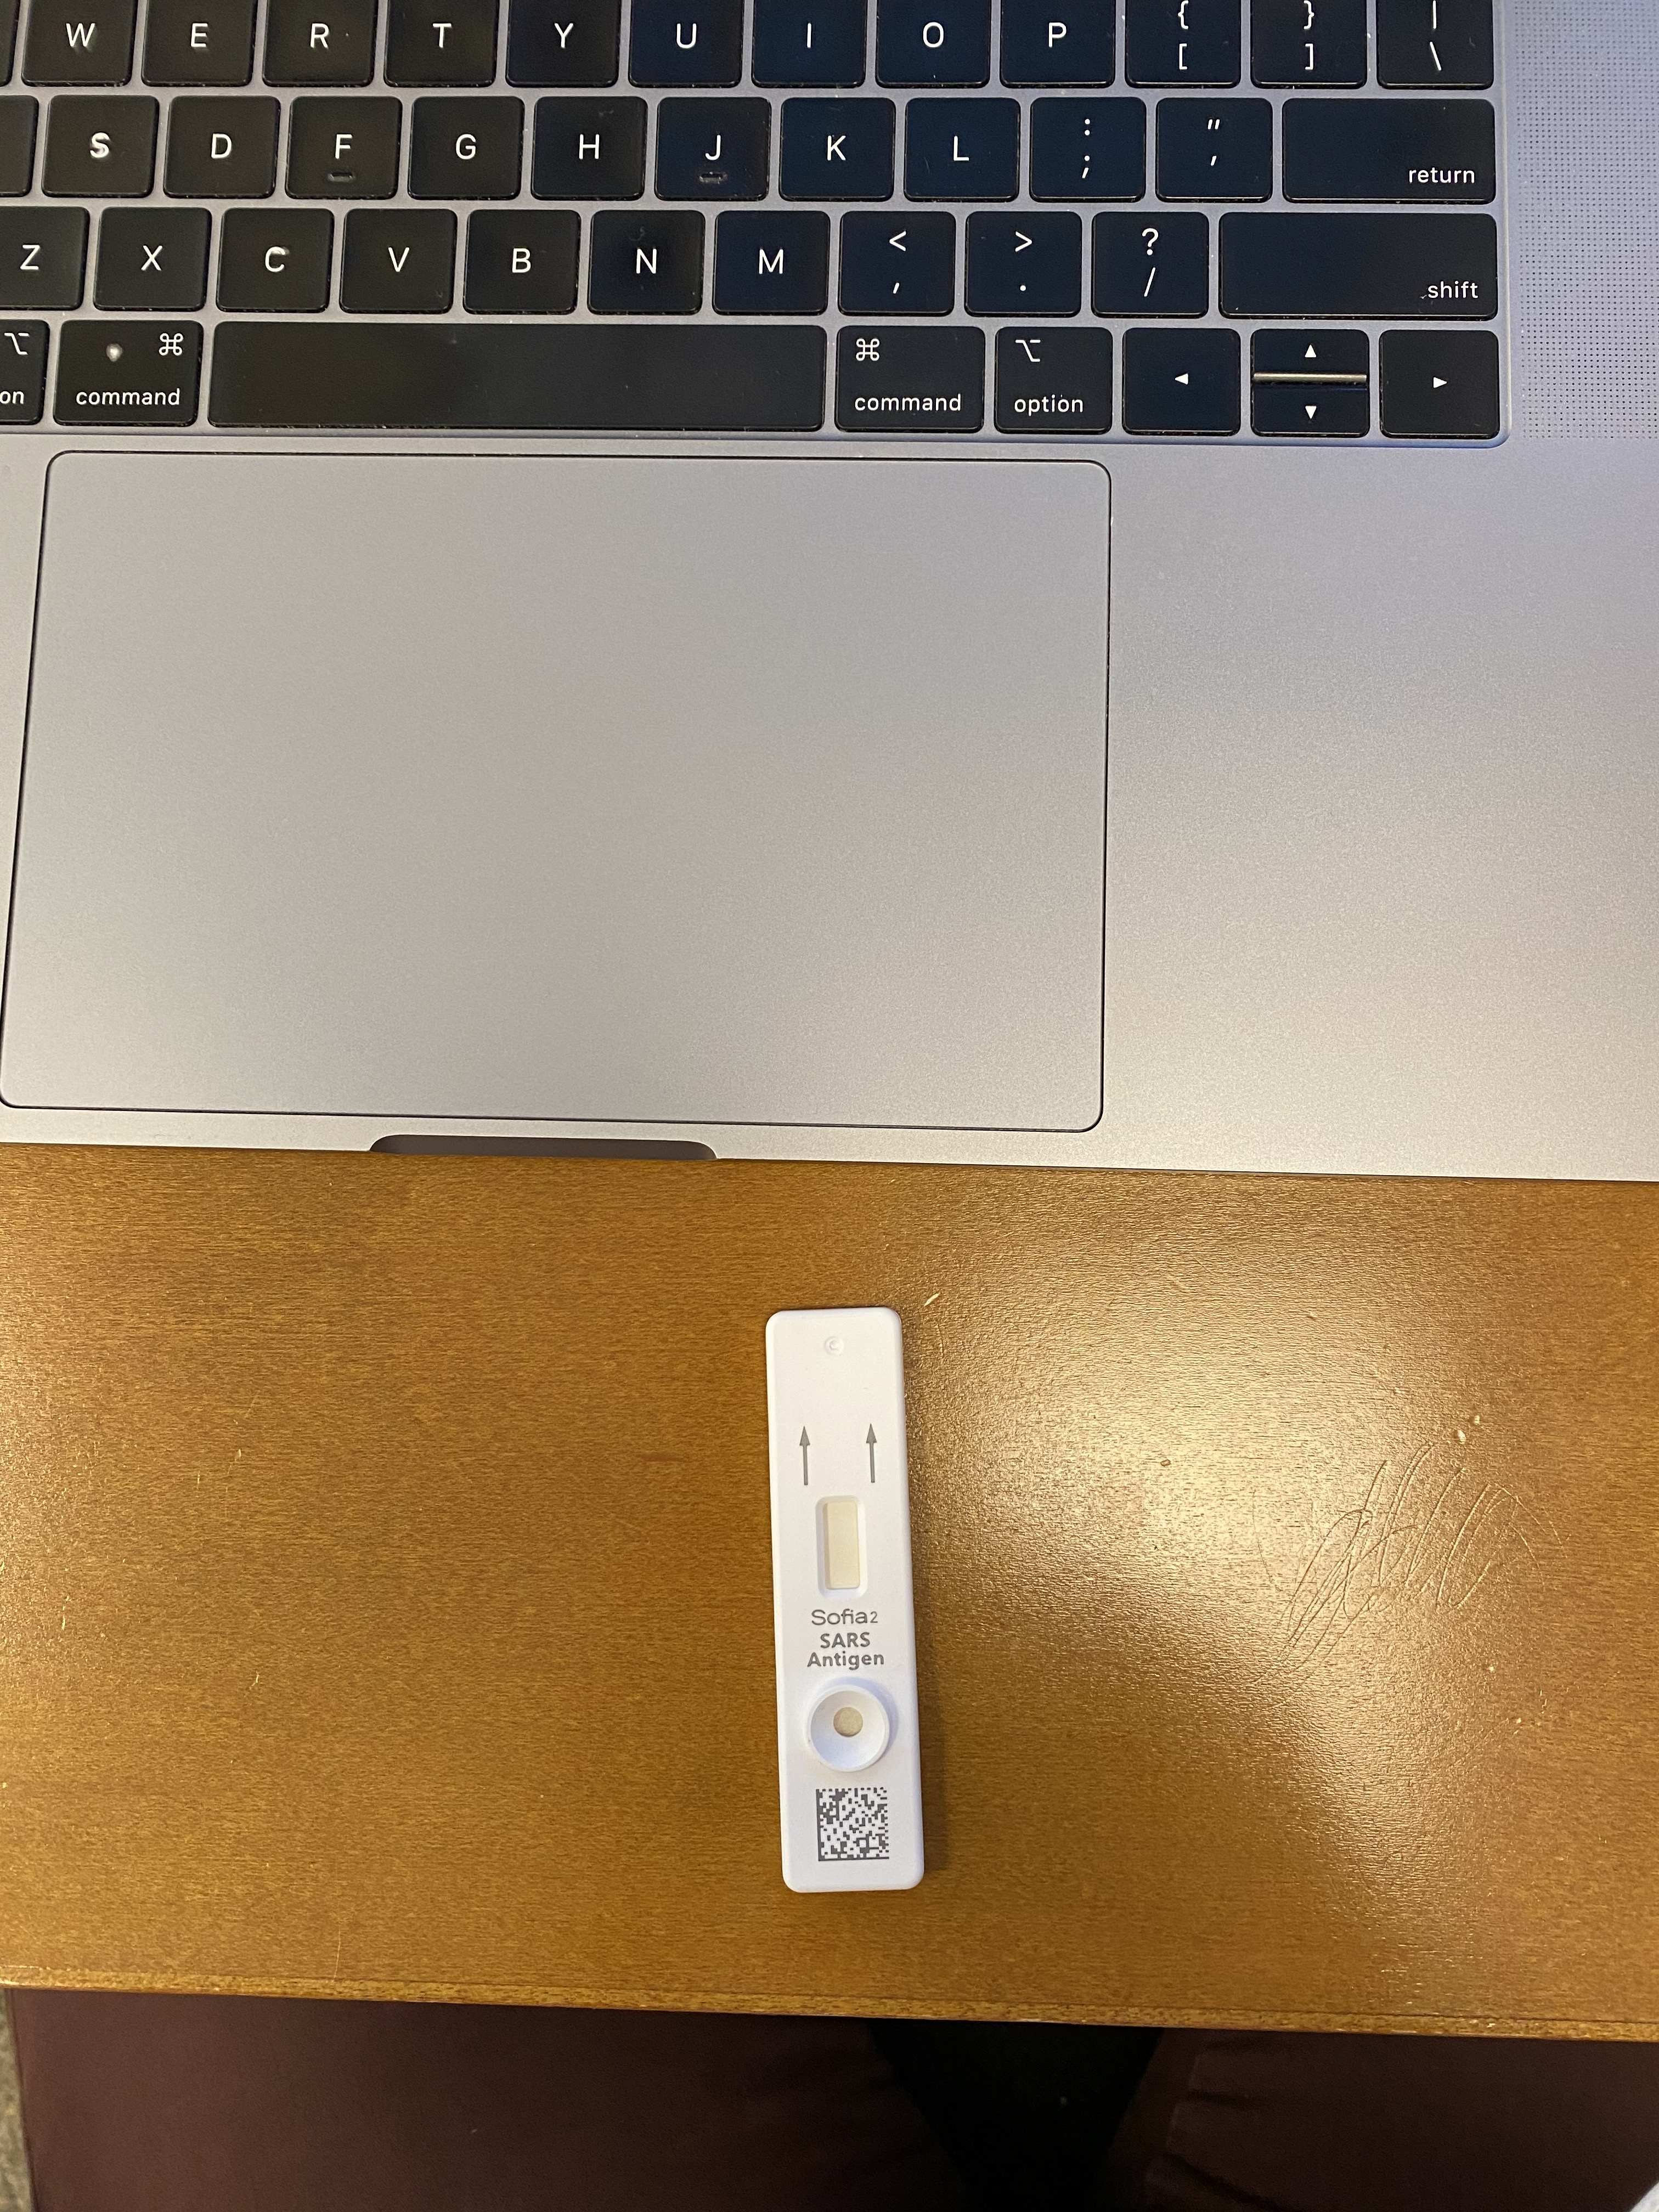quidel: (756, 1301, 946, 1904)
